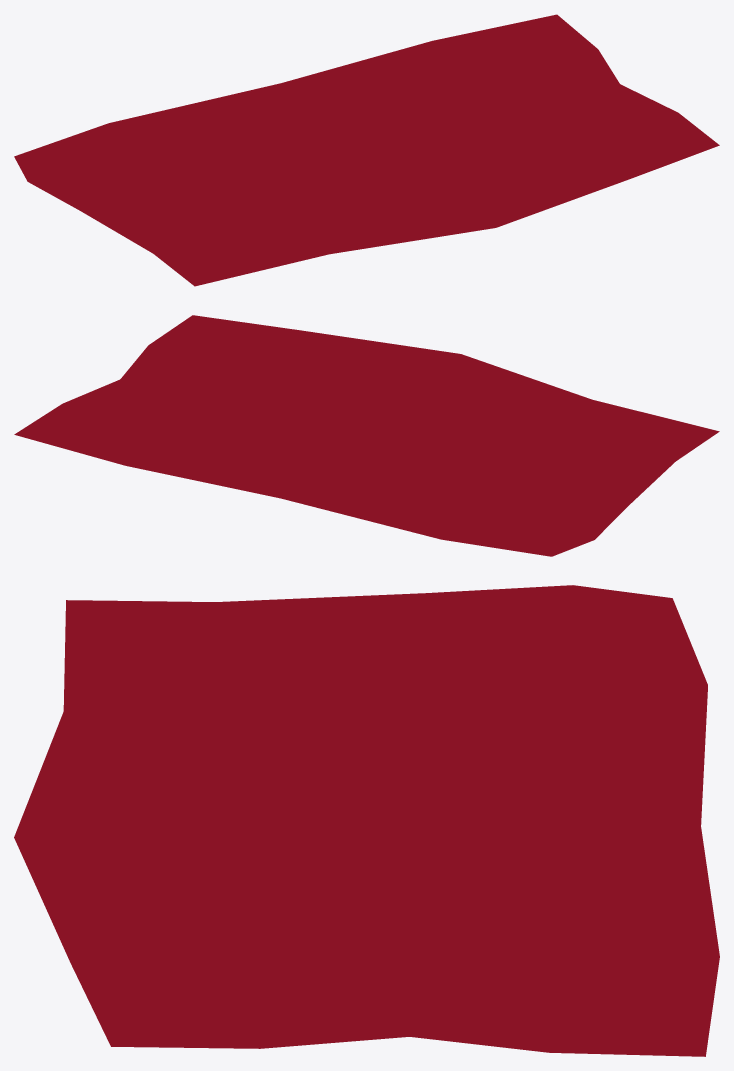
The model's file is Carpet001Var002.fbx.
3 renders of one model, top to bottom at view 1: azimuth 30°, elevation 25°; view 2: azimuth 150°, elevation 25°; view 3: azimuth 270°, elevation 25°, orthographic. The views are drawn at different scales.
Parts seen in each view (by area): view 1: Carpet001Var002; view 2: Carpet001Var002; view 3: Carpet001Var002.
Boxes of the visible parts, x1,y1,x2,y2 form: Carpet001Var002: (14, 14, 719, 286); Carpet001Var002: (14, 315, 719, 556); Carpet001Var002: (14, 585, 719, 1056).
Size of the model in its own units: 393 by 4.04e-05 by 248.
